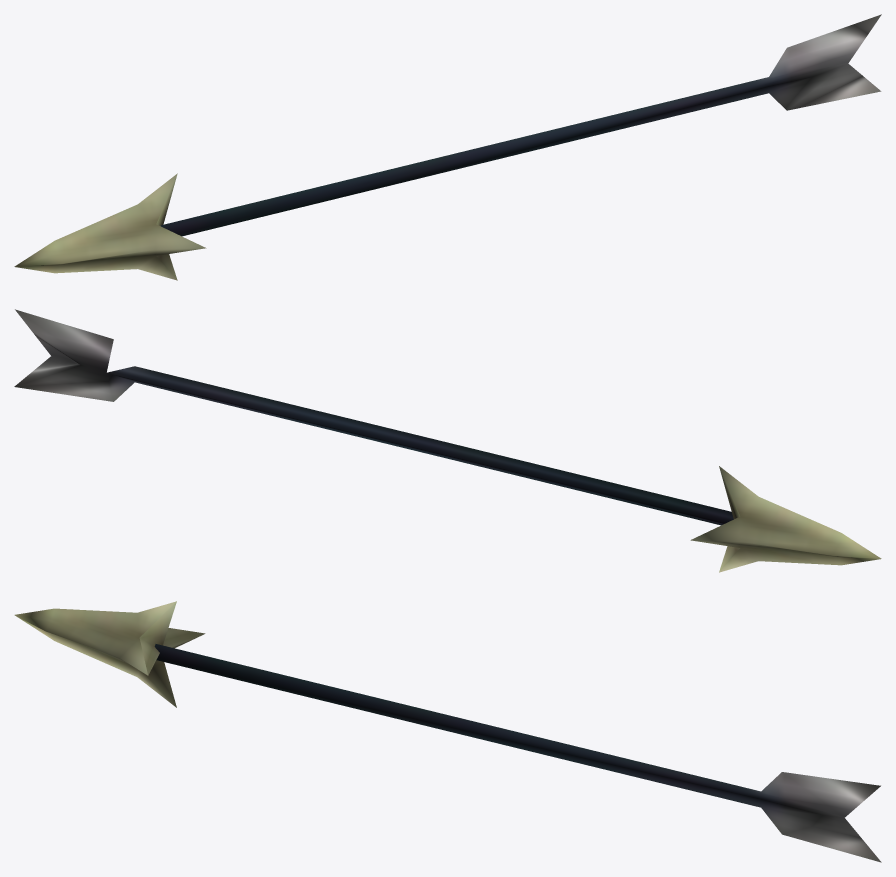
The model's file is slayerArrow.glb.
3 views of the same model, one above another, from view 1: azimuth 30°, elevation 25°; view 2: azimuth 150°, elevation 25°; view 3: azimuth 330°, elevation 25° (orthographic).
Parts seen in each view (by area): view 1: slayerArrow; view 2: slayerArrow; view 3: slayerArrow.
Boxes of the visible parts, <box> form: slayerArrow: <box>14,14,881,280</box>; slayerArrow: <box>14,309,881,572</box>; slayerArrow: <box>14,601,881,862</box>.
Size of the model in its own units: 1.07 by 0.1265 by 0.1238.
Materials: 1 (1 with a texture image).
